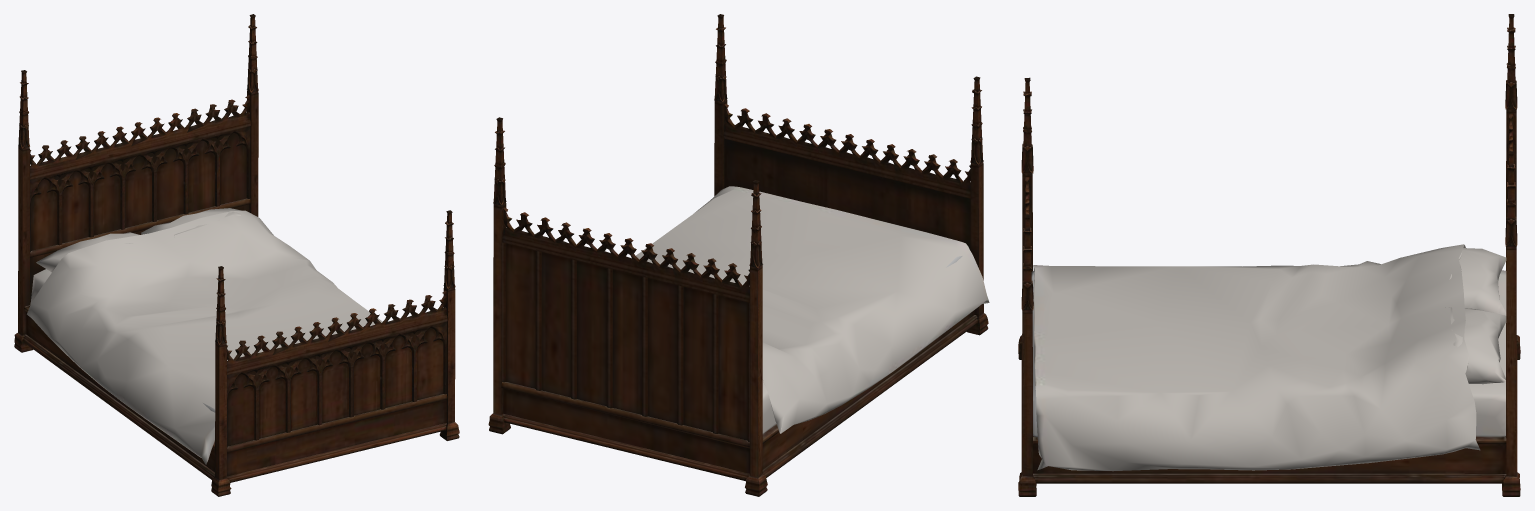
The model's file is bed.glb.
The picture shows the model from 3 angles, left to right: view 1: azimuth 30°, elevation 25°; view 2: azimuth 150°, elevation 25°; view 3: azimuth 270°, elevation 25°; orthographic projection. The views are drawn at different scales.
Parts seen in each view (by area): view 1: bed; view 2: bed; view 3: bed.
Part boxes in pixels (left/top/right/bottom): bed: left=14, top=14, right=459, bottom=496; bed: left=488, top=14, right=989, bottom=496; bed: left=1018, top=14, right=1520, bottom=496.
Size of the model in its own units: 1.49 by 1.53 by 2.04.
1 material, 1 textured.
